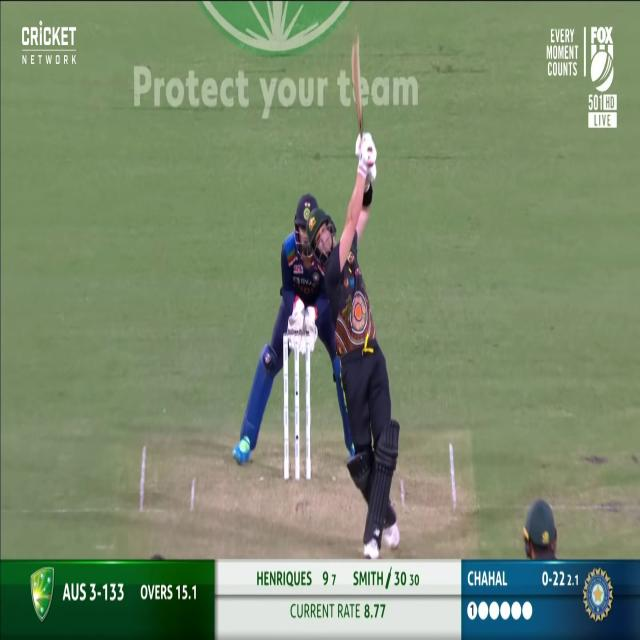stump: (284, 330, 312, 479)
